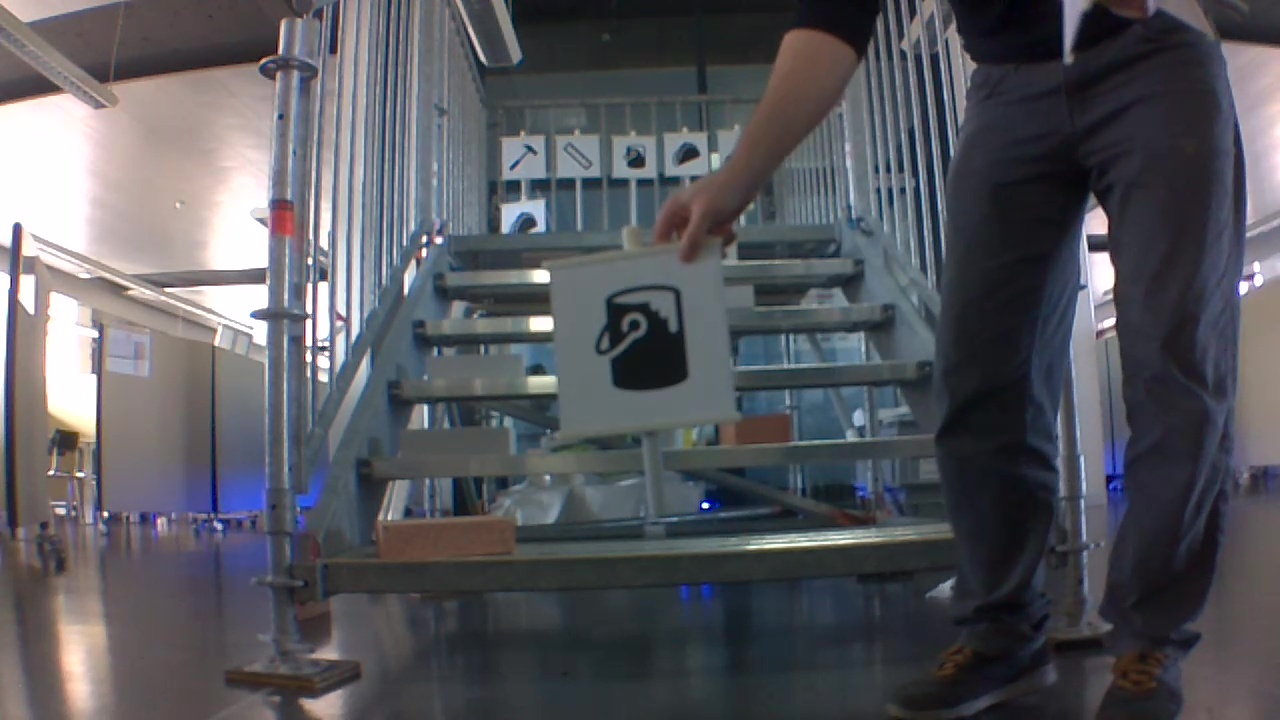brick: (374, 509, 516, 566), (396, 425, 521, 461), (426, 350, 523, 381), (722, 414, 792, 445)
bucket: (590, 280, 704, 395), (618, 141, 650, 172)
edge: (317, 525, 956, 596)
hammer: (506, 144, 540, 173)
ruler: (562, 139, 598, 172)
taco: (670, 139, 700, 170), (507, 213, 539, 235)
